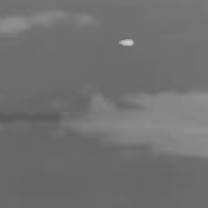Target: (118, 38, 135, 47)
